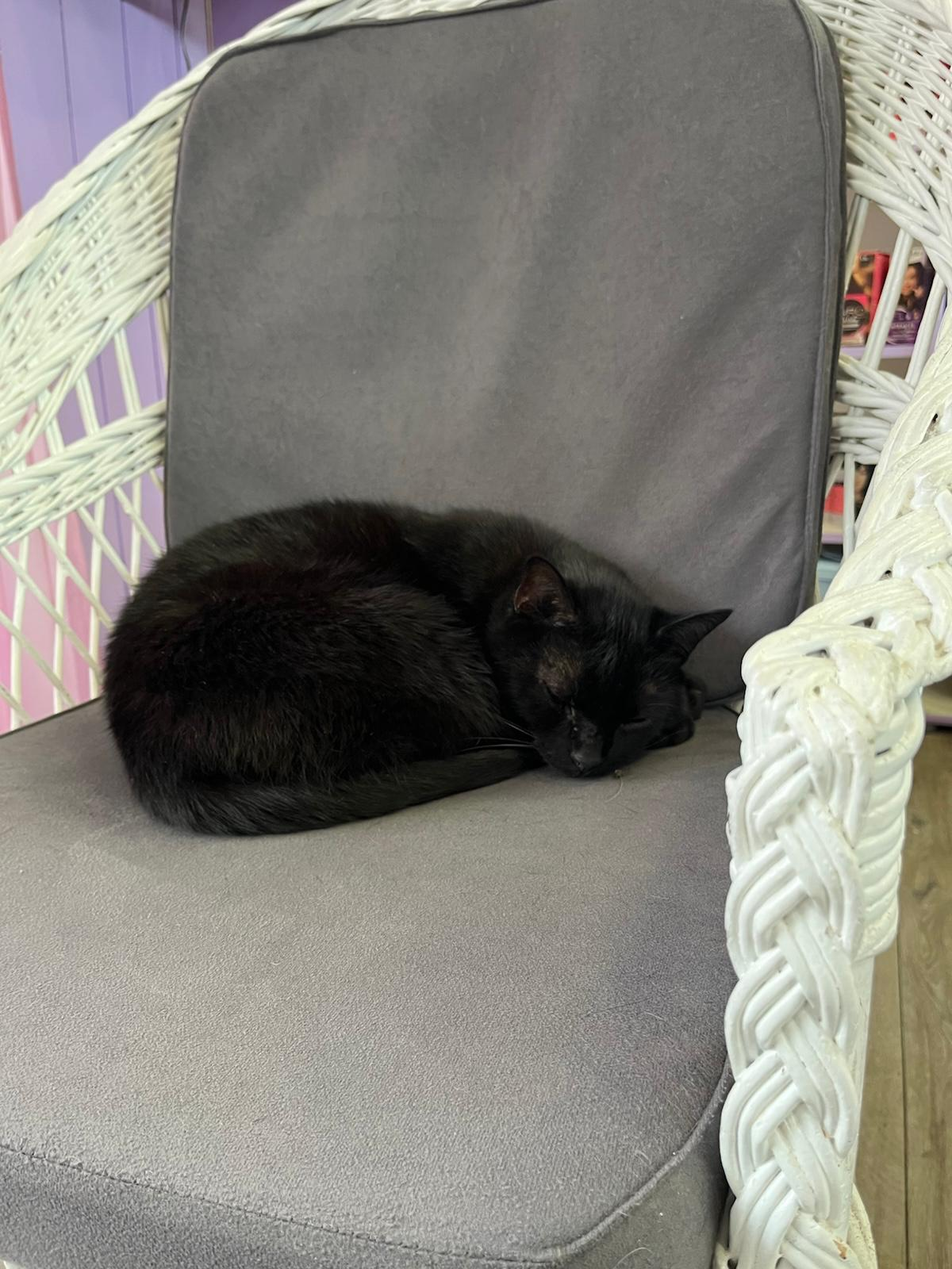macka: (102, 498, 740, 838)
